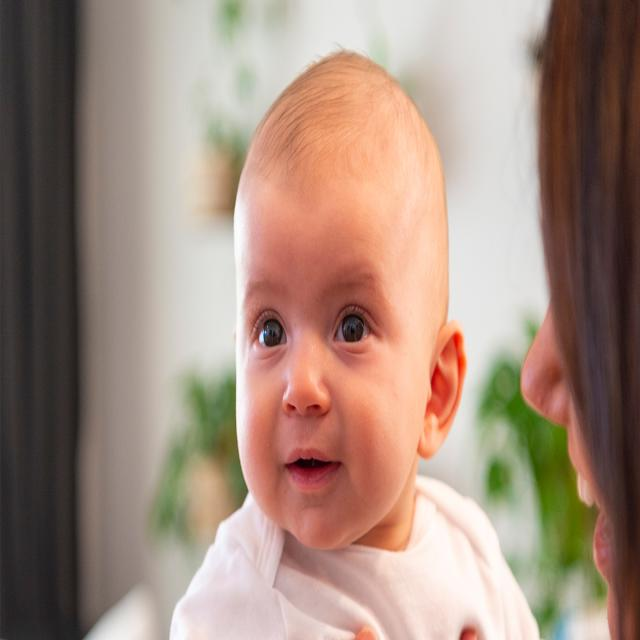adult: (521, 4, 640, 640)
child: (172, 50, 540, 640)
